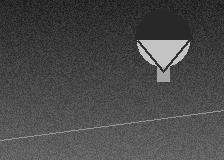helmet: (135, 10, 191, 71)
